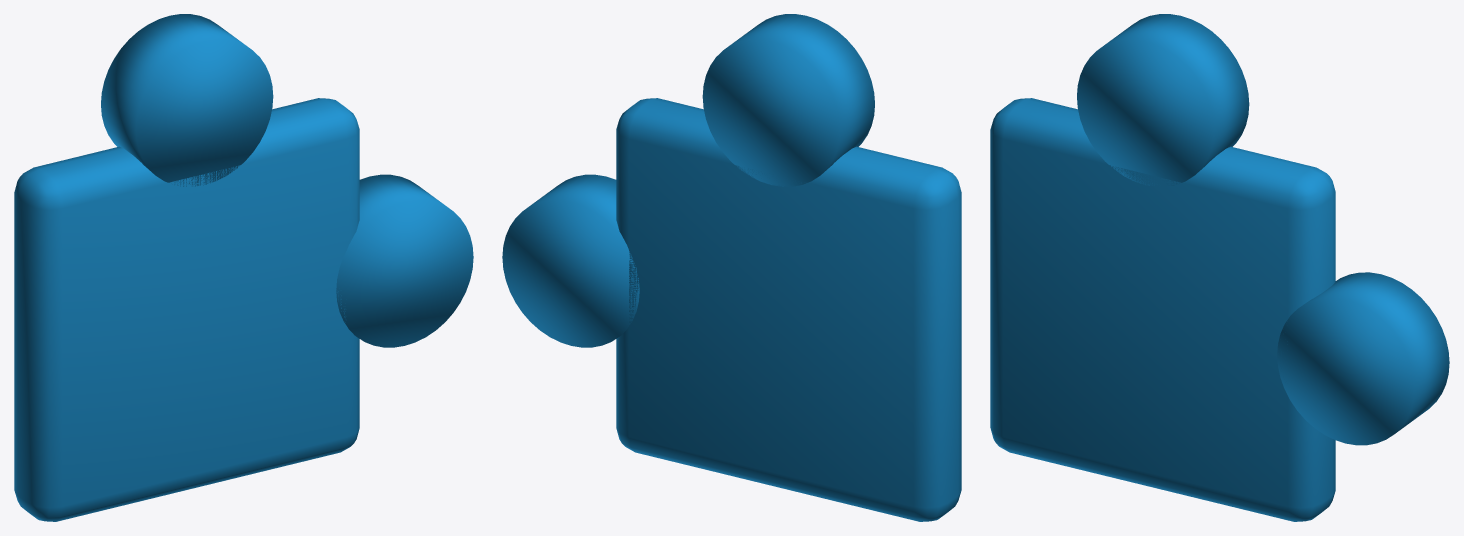
Rendered from puzzle_blue.glb.
The picture shows the model from 3 angles, left to right: view 1: azimuth 30°, elevation 25°; view 2: azimuth 150°, elevation 25°; view 3: azimuth 330°, elevation 25°; orthographic projection.
Parts seen in each view (by area): view 1: puzzle_blue; view 2: puzzle_blue; view 3: puzzle_blue.
Part boxes in pixels (<box>): puzzle_blue: <box>14,14,473,521</box>; puzzle_blue: <box>502,14,961,521</box>; puzzle_blue: <box>990,14,1449,521</box>.
Bounding box in the file's own units: 0.606 × 0.606 × 0.085.
